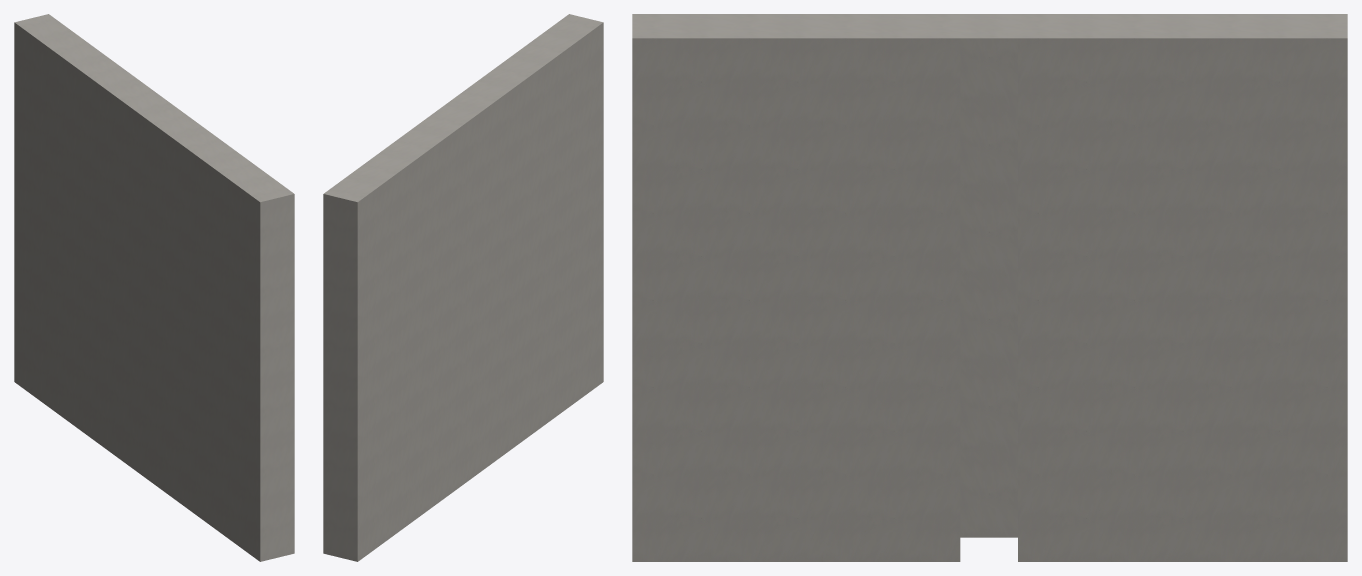
The model's file is fstWallH.obj.
3 views of the same model, side by side, from view 1: azimuth 30°, elevation 25°; view 2: azimuth 150°, elevation 25°; view 3: azimuth 270°, elevation 25° (orthographic). The views are drawn at different scales.
Parts seen in each view (by area): view 1: Box011; view 2: Box011; view 3: Box011.
Part boxes in pixels (x1,y1,x2,y2): Box011: (14,14,294,561); Box011: (323,14,603,561); Box011: (632,14,1347,561).
Bounding box in the file's own units: 11.81 × 118 × 146.
